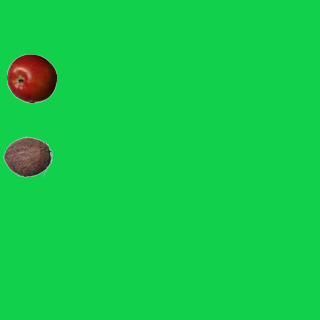Apple Braeburn: (6, 53, 56, 103)
Cocos: (2, 131, 52, 181)
